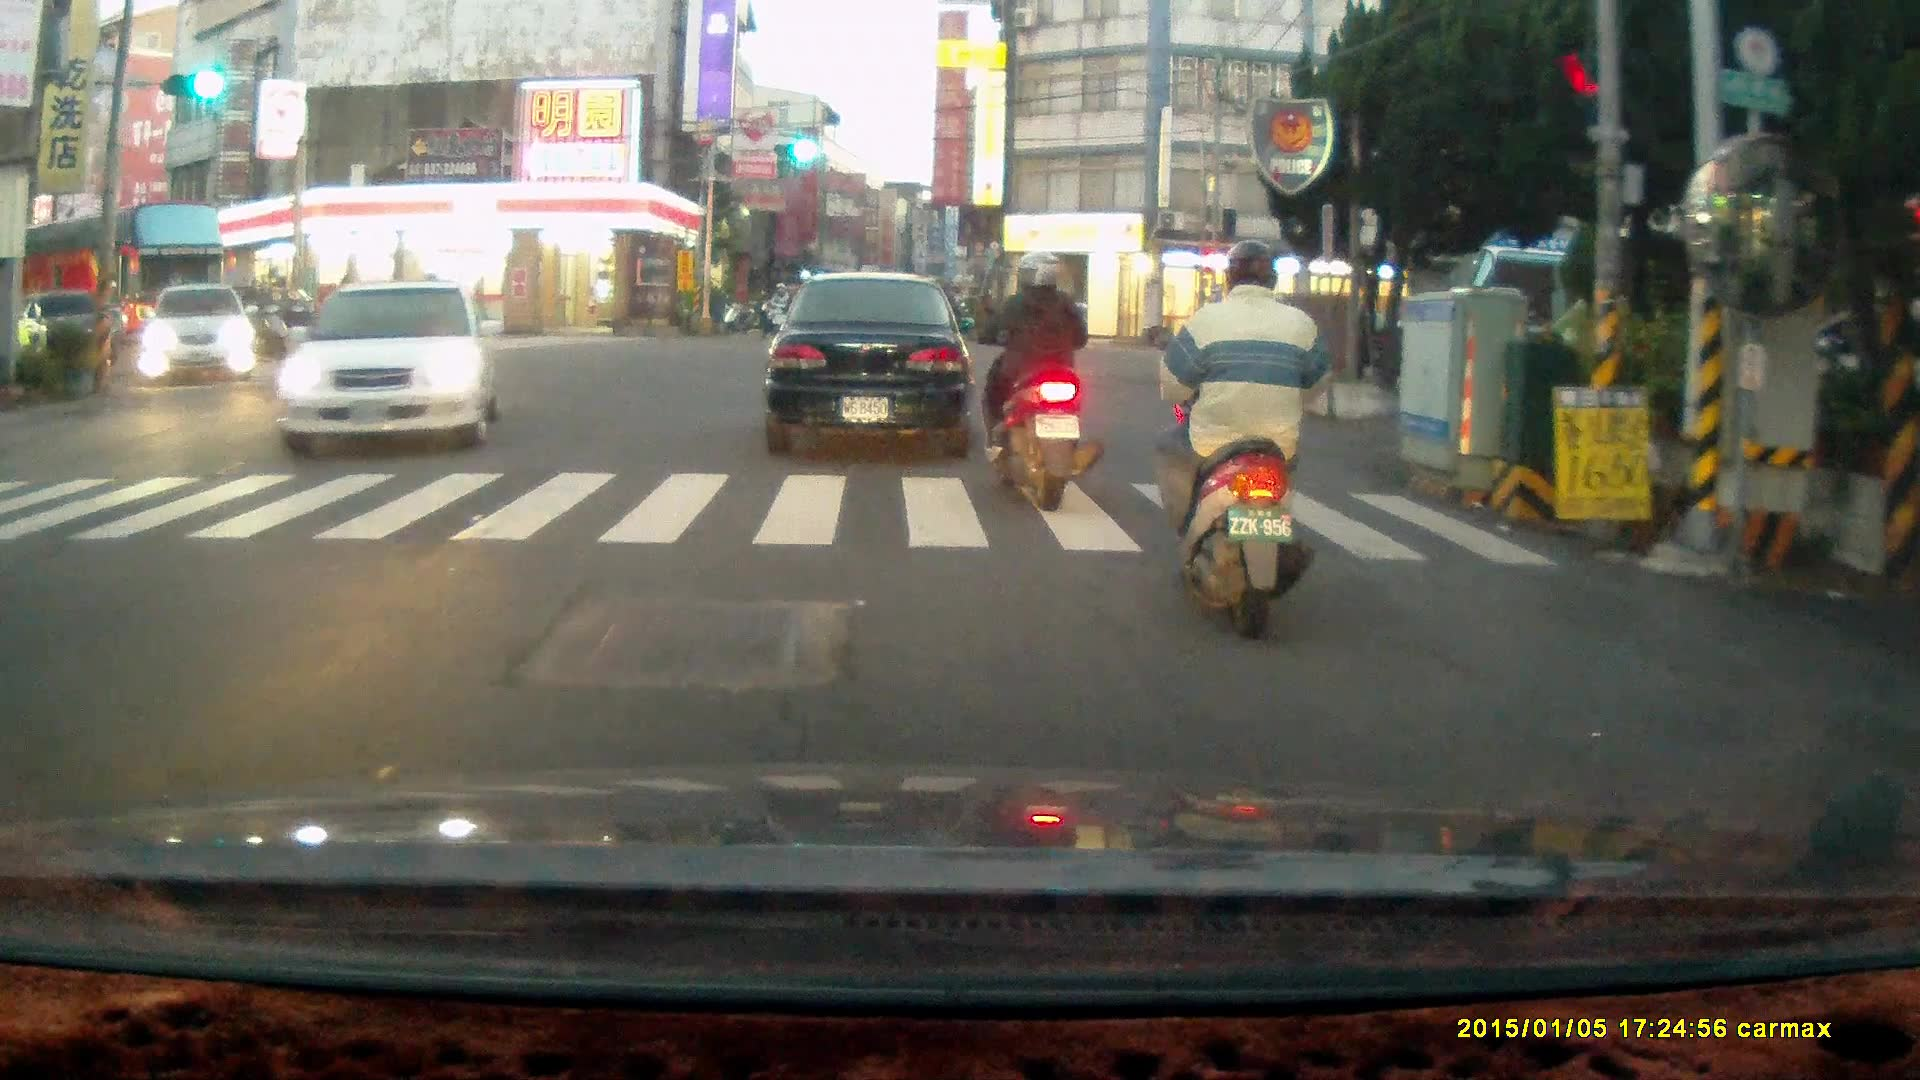rider: (1142, 237, 1327, 642), (967, 247, 1103, 512), (238, 278, 293, 368)
vehicle: (274, 281, 502, 460), (763, 272, 978, 462), (24, 203, 233, 354), (146, 286, 264, 397)
